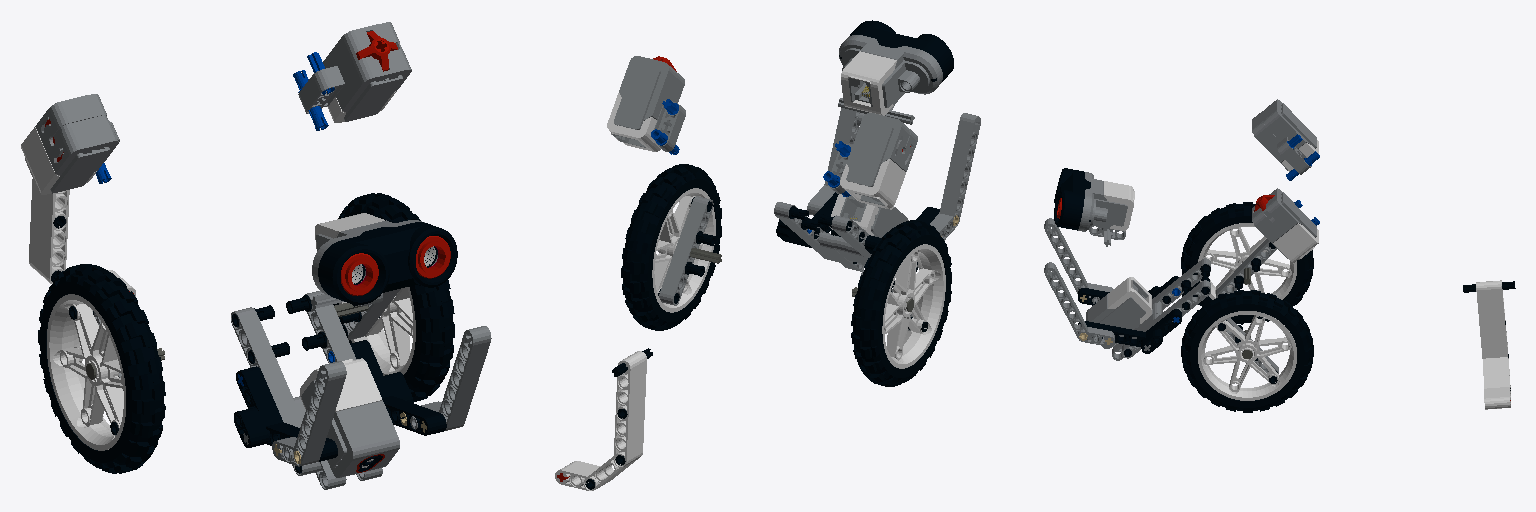
robot.urdf — hackev:
<?xml version="1.0" ?>
<!-- =================================================================================== -->
<!-- |    This document was autogenerated by xacro from hackev.xacro                   | -->
<!-- |    EDITING THIS FILE BY HAND IS NOT RECOMMENDED                                 | -->
<!-- =================================================================================== -->
<robot name="hackev" xmlns:xacro="http://www.ros.org/wiki/xacro">
  <gazebo>
    <plugin filename="libgazebo_ros_control.so" name="gazebo_ros_control">
      <robotNamespace>/hackev</robotNamespace>
    </plugin>
  </gazebo>
  <link name="base_link">
    <visual>
      <geometry>
        <mesh filename="package://hackev_description/meshs/hackev_body.dae"/>
      </geometry>
    </visual>
    <collision>
      <geometry>
        <mesh filename="package://hackev_description/meshs/hackev_body.dae"/>
      </geometry>
    </collision>
    <inertial>
      <mass value="1.3"/>
      <inertia ixx="1.0" ixy="0.0" ixz="0.0" iyy="1.0" iyz="0.0" izz="1.0"/>
    </inertial>
  </link>
  <link name="odom"/>
  <joint name="dummy_joint" type="fixed">
    <parent link="odom"/>
    <child link="base_link"/>
  </joint>
  <link name="left_wheel">
    <visual>
      <origin rpy="0 0.0 0" xyz="0 0 0"/>
      <geometry>
        <mesh filename="package://hackev_description/meshs/hackev_wheel.dae"/>
      </geometry>
    </visual>
    <collision>
      <origin rpy="0 0.0 0" xyz="0 0 0"/>
      <geometry>
        <mesh filename="package://hackev_description/meshs/hackev_wheel.dae"/>
      </geometry>
    </collision>
    <inertial>
      <mass value="0.1"/>
      <inertia ixx="1.0" ixy="0.0" ixz="0.0" iyy="1.0" iyz="0.0" izz="1.0"/>
    </inertial>
  </link>
  <joint name="left_wheel_joint" type="continuous">
    <axis rpy="0 0 0" xyz="1 0 0"/>
    <parent link="base_link"/>
    <child link="left_wheel"/>
    <origin rpy="0 0 0" xyz="0.064 0.002875 -0.00231"/>
  </joint>
  <link name="right_wheel">
    <visual>
      <origin rpy="0 3.14159265359 0" xyz="0 0 0"/>
      <geometry>
        <mesh filename="package://hackev_description/meshs/hackev_wheel.dae"/>
      </geometry>
    </visual>
    <collision>
      <origin rpy="0 3.14159265359 0" xyz="0 0 0"/>
      <geometry>
        <mesh filename="package://hackev_description/meshs/hackev_wheel.dae"/>
      </geometry>
    </collision>
    <inertial>
      <mass value="0.1"/>
      <inertia ixx="1.0" ixy="0.0" ixz="0.0" iyy="1.0" iyz="0.0" izz="1.0"/>
    </inertial>
  </link>
  <joint name="right_wheel_joint" type="continuous">
    <axis rpy="0 0 0" xyz="1 0 0"/>
    <parent link="base_link"/>
    <child link="right_wheel"/>
    <origin rpy="0 0 0" xyz="-0.064 0.002875 -0.00231"/>
  </joint>
  <link name="arm">
    <visual>
      <geometry>
        <mesh filename="package://hackev_description/meshs/hackev_arm.dae"/>
      </geometry>
    </visual>
    <collision>
      <geometry>
        <mesh filename="package://hackev_description/meshs/hackev_arm.dae"/>
      </geometry>
    </collision>
    <inertial>
      <mass value="0.1"/>
      <inertia ixx="1.0" ixy="0.0" ixz="0.0" iyy="1.0" iyz="0.0" izz="1.0"/>
    </inertial>
  </link>
  <joint name="arm_joint" type="continuous">
    <axis rpy="0 0 0" xyz="1 0 0"/>
    <parent link="base_link"/>
    <child link="arm"/>
    <origin rpy="0 0 0" xyz="0 -0.02893 0.01283"/>
  </joint>
  <link name="color">
    <visual>
      <geometry>
        <mesh filename="package://hackev_description/meshs/hackev_color.dae"/>
      </geometry>
    </visual>
    <collision>
      <geometry>
        <mesh filename="package://hackev_description/meshs/hackev_color.dae"/>
      </geometry>
    </collision>
    <inertial>
      <mass value="0.05"/>
      <inertia ixx="1.0" ixy="0.0" ixz="0.0" iyy="1.0" iyz="0.0" izz="1.0"/>
    </inertial>
  </link>
  <joint name="color_joint" type="fixed">
    <parent link="arm"/>
    <child link="color"/>
    <origin rpy="0 0 0" xyz="0 -0.02995 -0.02625"/>
  </joint>
  <link name="tail">
    <visual>
      <geometry>
        <mesh filename="package://hackev_description/meshs/hackev_tail.dae"/>
      </geometry>
    </visual>
    <collision>
      <geometry>
        <mesh filename="package://hackev_description/meshs/hackev_tail.dae"/>
      </geometry>
    </collision>
    <inertial>
      <mass value="0.2"/>
      <inertia ixx="1.0" ixy="0.0" ixz="0.0" iyy="1.0" iyz="0.0" izz="1.0"/>
    </inertial>
  </link>
  <joint name="tail_joint" type="continuous">
    <axis rpy="0 0 0" xyz="0 1 0"/>
    <parent link="base_link"/>
    <child link="tail"/>
    <origin rpy="0.0785398 0 0" xyz="0 0.1517738 0.0114206"/>
  </joint>
  <link name="gyro">
    <visual>
      <geometry>
        <mesh filename="package://hackev_description/meshs/hackev_gyro.dae"/>
      </geometry>
    </visual>
    <collision>
      <geometry>
        <mesh filename="package://hackev_description/meshs/hackev_gyro.dae"/>
      </geometry>
    </collision>
    <inertial>
      <mass value="0.05"/>
      <inertia ixx="1.0" ixy="0.0" ixz="0.0" iyy="1.0" iyz="0.0" izz="1.0"/>
    </inertial>
  </link>
  <joint name="gyro_joint" type="fixed">
    <parent link="base_link"/>
    <child link="gyro"/>
    <origin rpy="0 0 0" xyz="-0.048 0.0318875 0.0773275"/>
  </joint>
  <link name="touch">
    <visual>
      <geometry>
        <mesh filename="package://hackev_description/meshs/hackev_touch.dae"/>
      </geometry>
    </visual>
    <collision>
      <geometry>
        <mesh filename="package://hackev_description/meshs/hackev_touch.dae"/>
      </geometry>
    </collision>
    <inertial>
      <mass value="0.05"/>
      <inertia ixx="1.0" ixy="0.0" ixz="0.0" iyy="1.0" iyz="0.0" izz="1.0"/>
    </inertial>
  </link>
  <joint name="touch_joint" type="fixed">
    <parent link="base_link"/>
    <child link="touch"/>
    <origin rpy="0 0 0" xyz="0.048 0.0318875 0.0773275"/>
  </joint>
  <link name="ultrasonic">
    <visual>
      <geometry>
        <mesh filename="package://hackev_description/meshs/hackev_ultrasonic.dae"/>
      </geometry>
    </visual>
    <collision>
      <geometry>
        <mesh filename="package://hackev_description/meshs/hackev_ultrasonic.dae"/>
      </geometry>
    </collision>
    <inertial>
      <mass value="0.05"/>
      <inertia ixx="1.0" ixy="0.0" ixz="0.0" iyy="1.0" iyz="0.0" izz="1.0"/>
    </inertial>
  </link>
  <joint name="ultrasonic_joint" type="fixed">
    <parent link="base_link"/>
    <child link="ultrasonic"/>
    <origin rpy="0 0 0" xyz="0 -0.0833211 0.0501713"/>
  </joint>
  <transmission name="tran1">
    <type>transmission_interface/SimpleTransmission</type>
    <joint name="left_wheel_joint">
      <hardwareInterface>hardware_interface/VelocityJointInterface</hardwareInterface>
    </joint>
    <actuator name="left_motor">
      <hardwareInterface>hardware_interface/VelocityJointInterface</hardwareInterface>
      <mechanicalReduction>1</mechanicalReduction>
    </actuator>
  </transmission>
  <transmission name="tran2">
    <type>transmission_interface/SimpleTransmission</type>
    <joint name="right_wheel_joint">
      <hardwareInterface>hardware_interface/VelocityJointInterface</hardwareInterface>
    </joint>
    <actuator name="right_motor">
      <hardwareInterface>hardware_interface/VelocityJointInterface</hardwareInterface>
      <mechanicalReduction>1</mechanicalReduction>
    </actuator>
  </transmission>
  <transmission name="tran3">
    <type>transmission_interface/SimpleTransmission</type>
    <joint name="arm_joint">
      <hardwareInterface>hardware_interface/VelocityJointInterface</hardwareInterface>
    </joint>
    <actuator name="arm_motor">
      <hardwareInterface>hardware_interface/VelocityJointInterface</hardwareInterface>
      <mechanicalReduction>1</mechanicalReduction>
    </actuator>
  </transmission>
  <transmission name="tran4">
    <type>transmission_interface/SimpleTransmission</type>
    <joint name="tail_joint">
      <hardwareInterface>hardware_interface/VelocityJointInterface</hardwareInterface>
    </joint>
    <actuator name="tail_motor">
      <hardwareInterface>hardware_interface/VelocityJointInterface</hardwareInterface>
      <mechanicalReduction>1</mechanicalReduction>
    </actuator>
  </transmission>
  <gazebo reference="base_link">
    <selfCollide>true</selfCollide>
    <mu1 value="0.4"/>
    <mu2 value="0.4"/>
  </gazebo>
  <gazebo reference="arm">
    <selfCollide>true</selfCollide>
    <mu1 value="0.4"/>
    <mu2 value="0.4"/>
  </gazebo>
  <gazebo reference="tail">
    <selfCollide>true</selfCollide>
    <mu1 value="0.4"/>
    <mu2 value="0.4"/>
  </gazebo>
  <gazebo reference="right_wheel">
    <selfCollide>true</selfCollide>
    <mu1 value="0.8"/>
    <mu2 value="0.8"/>
  </gazebo>
  <gazebo reference="left_wheel">
    <selfCollide>true</selfCollide>
    <mu1 value="0.8"/>
    <mu2 value="0.8"/>
  </gazebo>
</robot>

--- What the picture shows (computed from the rendered views, not written in the file) ---
Views: 3 orthographic renders of the robot side by side, from view 1: azimuth 30°, elevation 25°; view 2: azimuth 150°, elevation 25°; view 3: azimuth 270°, elevation 25°.
Model hackev with 10 links and 9 joints (4 continuous, 5 fixed), rooted at odom, posed all joints at 0.
Links seen in each view (by area): view 1: right_wheel, arm, ultrasonic, left_wheel, touch, gyro, color, tail; view 2: left_wheel, right_wheel, arm, ultrasonic, gyro, touch, tail, color; view 3: left_wheel, arm, right_wheel, ultrasonic, tail, gyro, touch, color.
Link boxes in pixels (x1,y1,x2,y2): right_wheel: [38, 264, 165, 473]; arm: [231, 291, 491, 489]; ultrasonic: [311, 213, 457, 308]; left_wheel: [333, 193, 454, 401]; touch: [293, 22, 411, 130]; gyro: [21, 94, 119, 194]; color: [243, 358, 399, 477]; tail: [29, 179, 135, 296]; left_wheel: [621, 164, 721, 330]; right_wheel: [851, 220, 951, 386]; arm: [774, 108, 980, 271]; ultrasonic: [838, 20, 953, 125]; gyro: [823, 113, 917, 208]; touch: [607, 56, 685, 154]; tail: [555, 348, 652, 490]; color: [829, 194, 917, 267]; left_wheel: [1181, 290, 1313, 412]; arm: [1044, 218, 1210, 360]; right_wheel: [1181, 202, 1313, 324]; ultrasonic: [1054, 168, 1134, 246]; tail: [1463, 280, 1515, 409]; gyro: [1252, 99, 1319, 180]; touch: [1252, 188, 1319, 262]; color: [1086, 277, 1162, 350].
Bounding box of the posed robot: 0.1512 × 0.2901 × 0.1616 m (x, y, z).
Meshes: 8 distinct files referenced, 8 mesh visuals loaded (7 Collada DAE); not drawn: 1 (reference not matched to a file when rendering).
